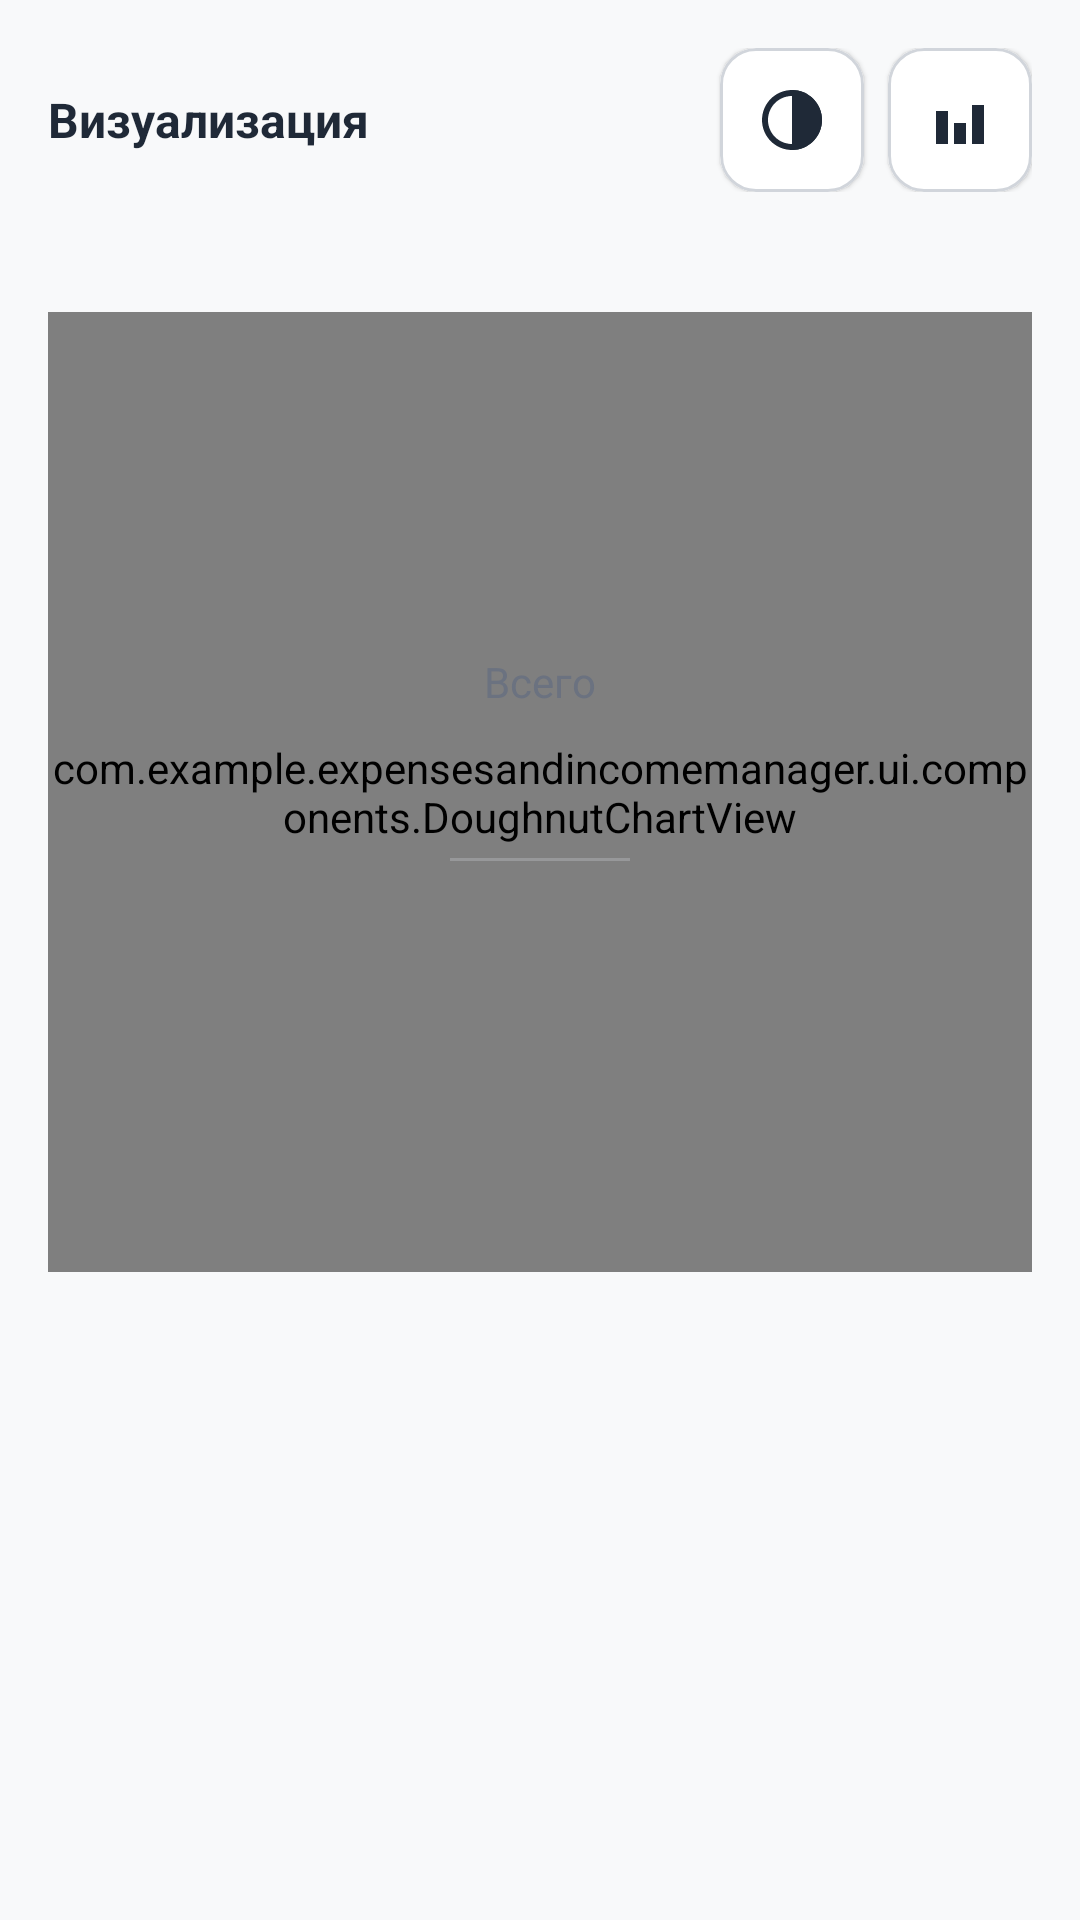

Screen size 1080 × 1920. Icon name, then its box in pixels as [x1, y1, x2, y2]:
chart bar: [936, 105, 984, 144]
